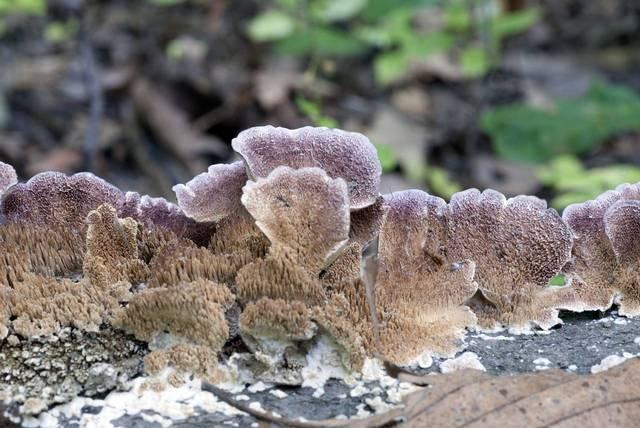poisonous_mushroom: (1, 123, 638, 383)
